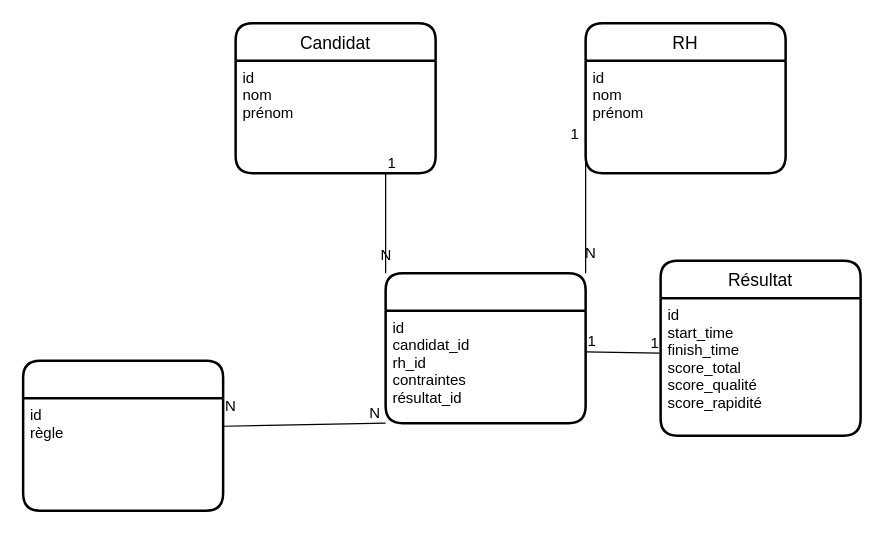
This 893x533 diagram has some shape labels left out. The shapes that lost their labels are listed below. From the top down, each one's box as (x1, y1, x2, y2) in pixels, then its label:
(384, 271, 586, 424): Test
(21, 359, 224, 511): Contrainte
